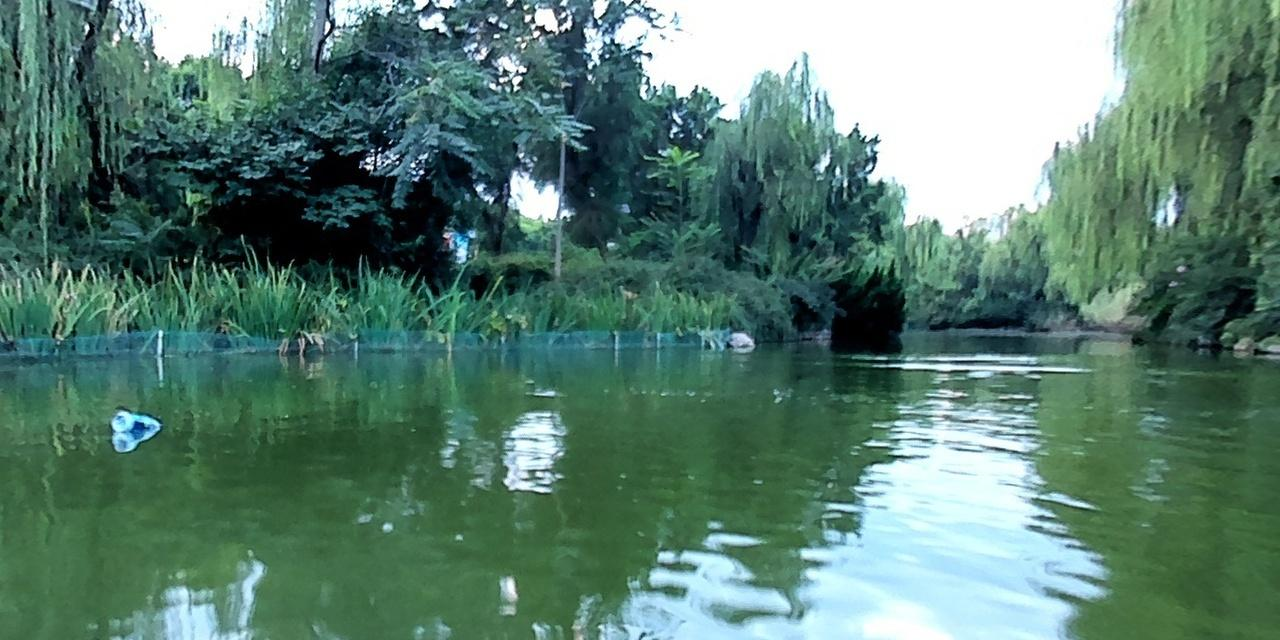bottle: (109, 409, 160, 433)
